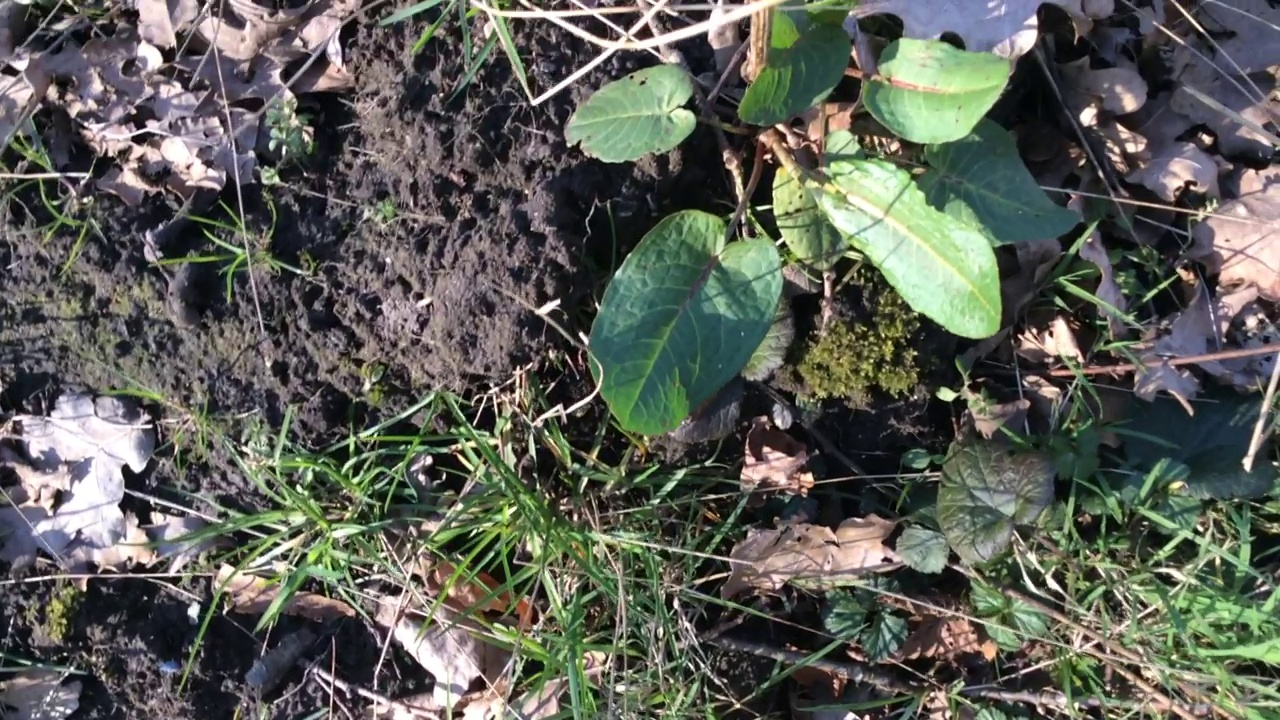rumex: (565, 1, 1085, 436)
